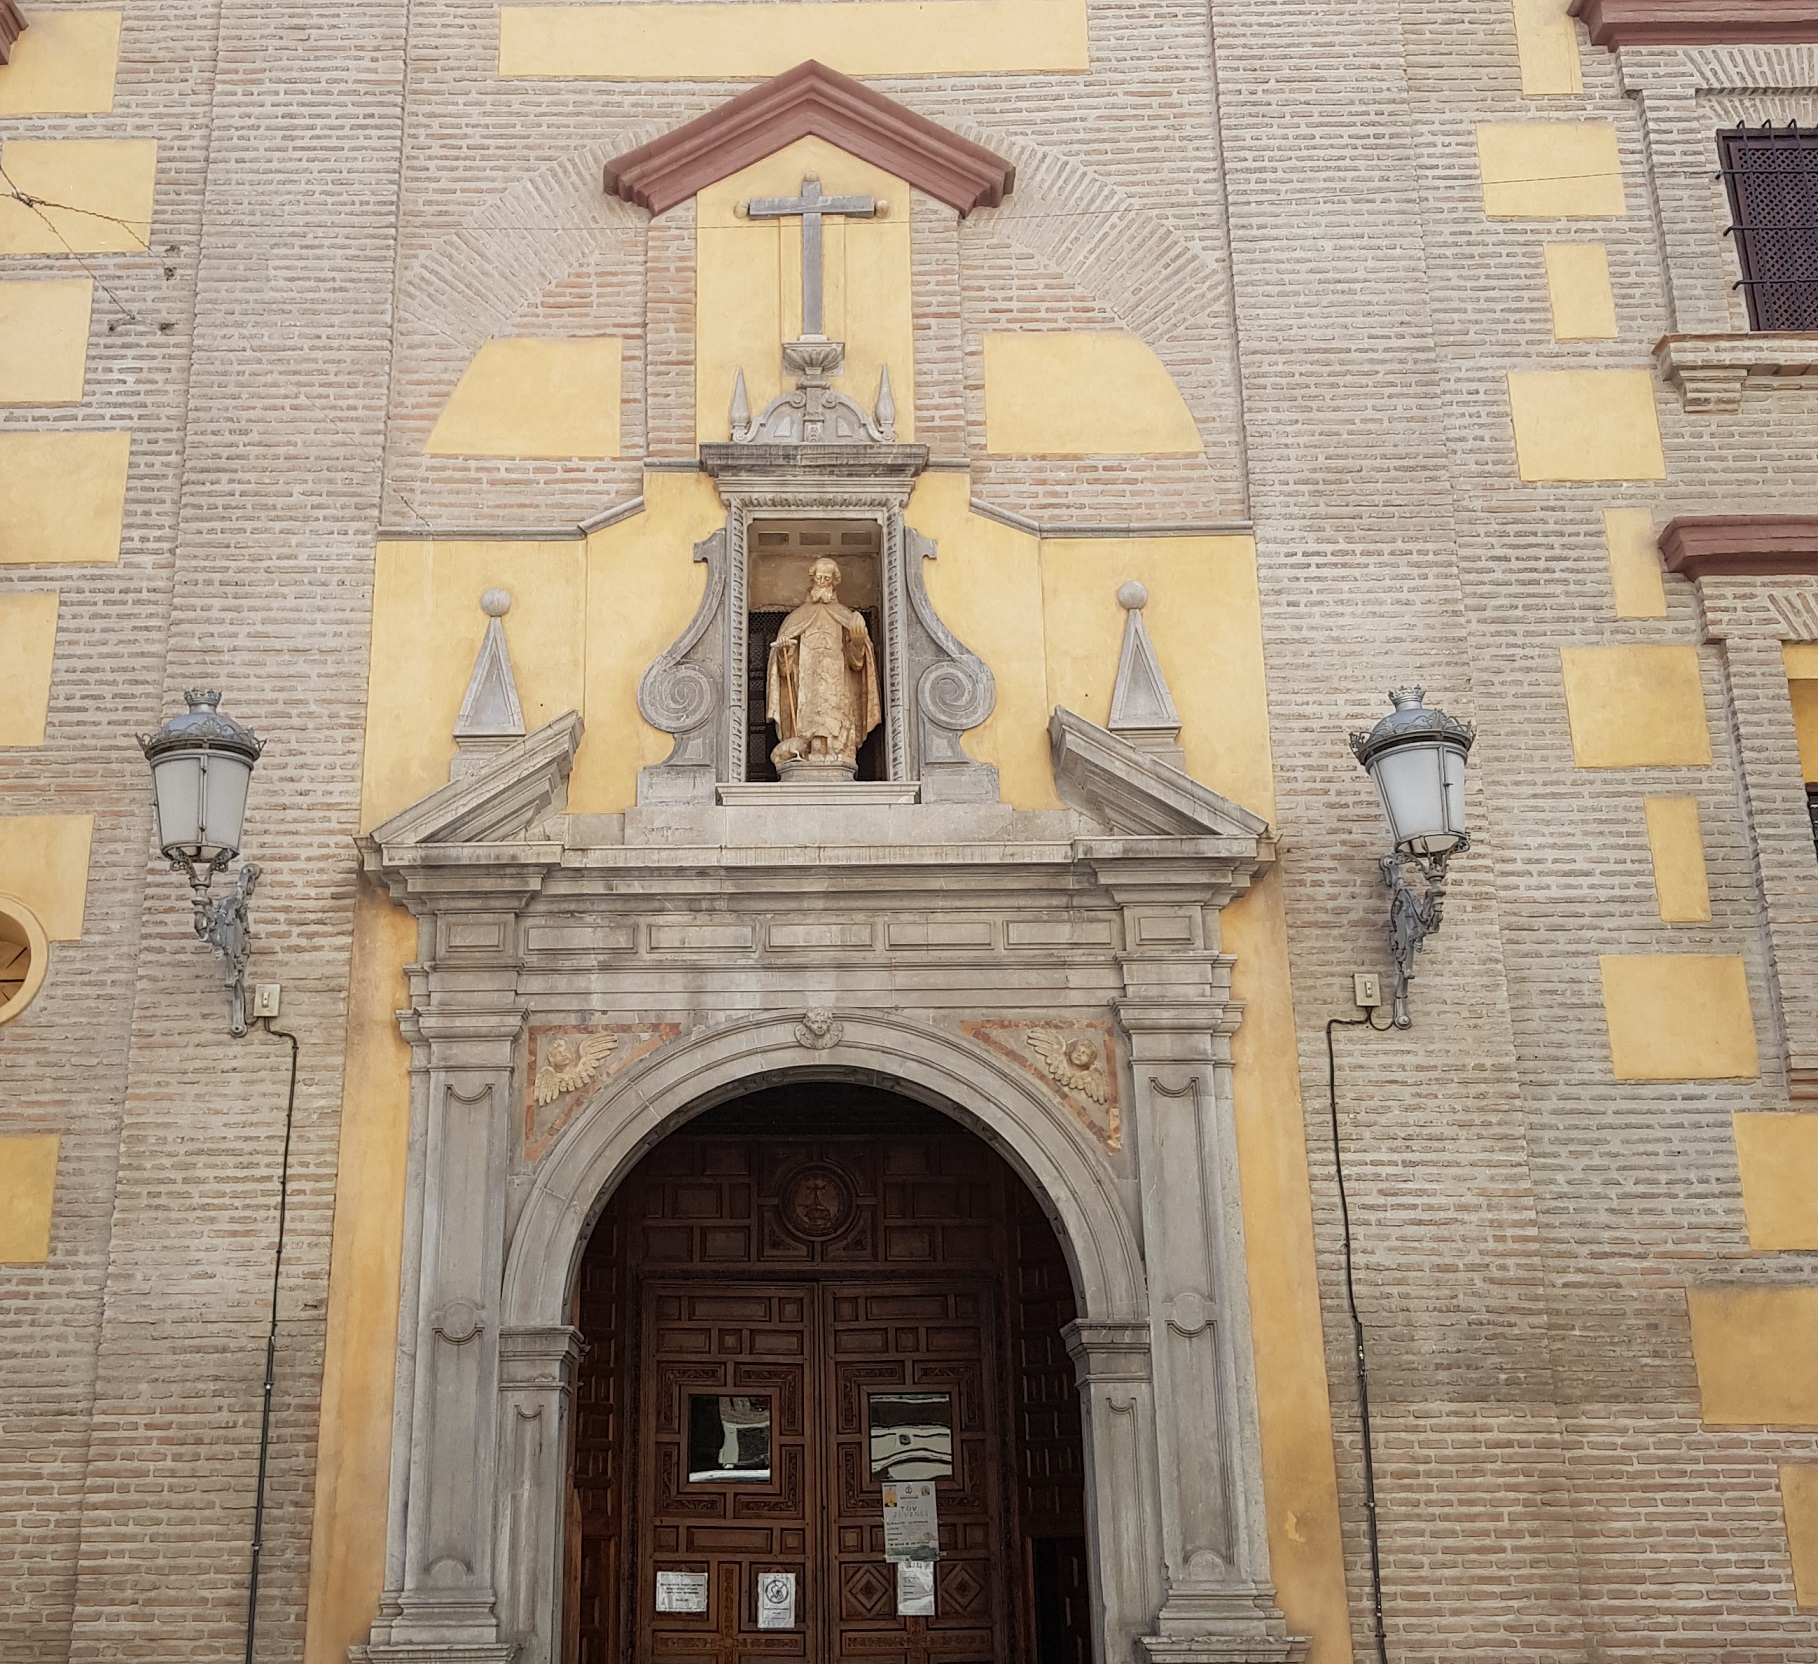arco-medio-punto: (531, 1051, 1116, 1422)
fronton-partido: (364, 700, 1283, 893)
